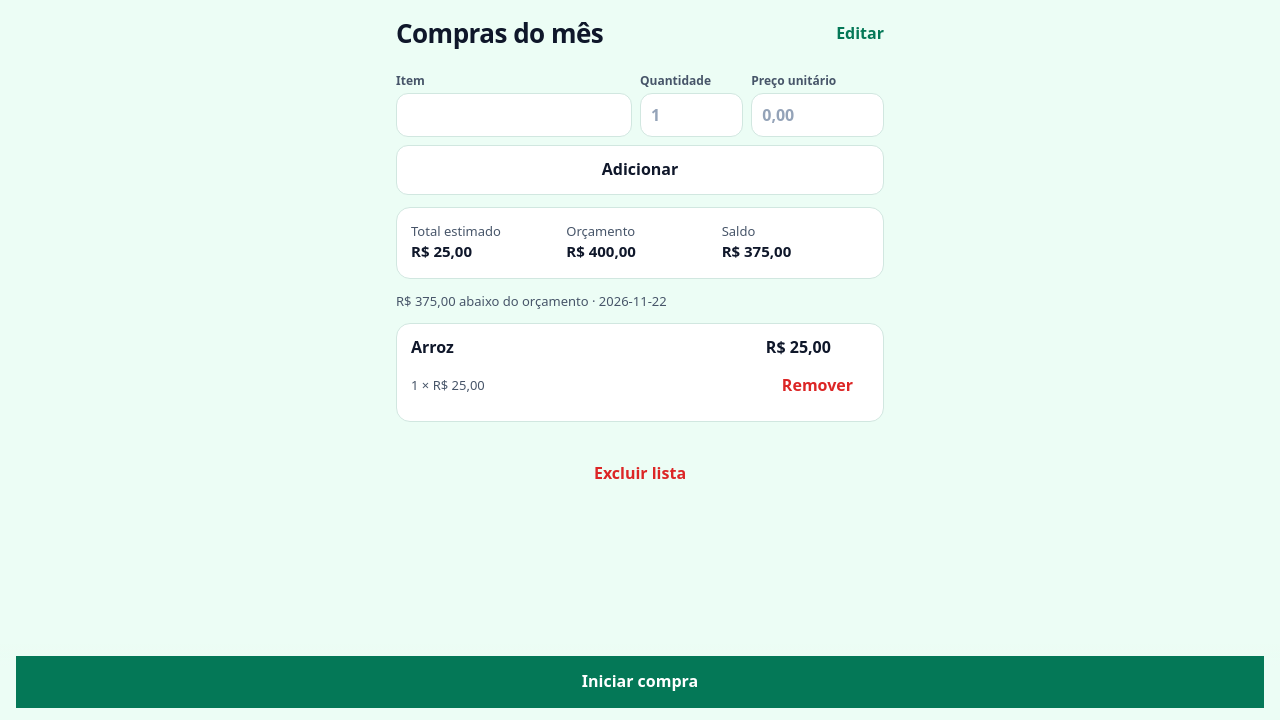
Test: CA-R13: desfazer remoção de item › mostra o desfazer depois de remover e devolve o item ao clicar
Click the button with aria-label "remover arroz".
click(817, 385)  # box [766, 362, 869, 409]
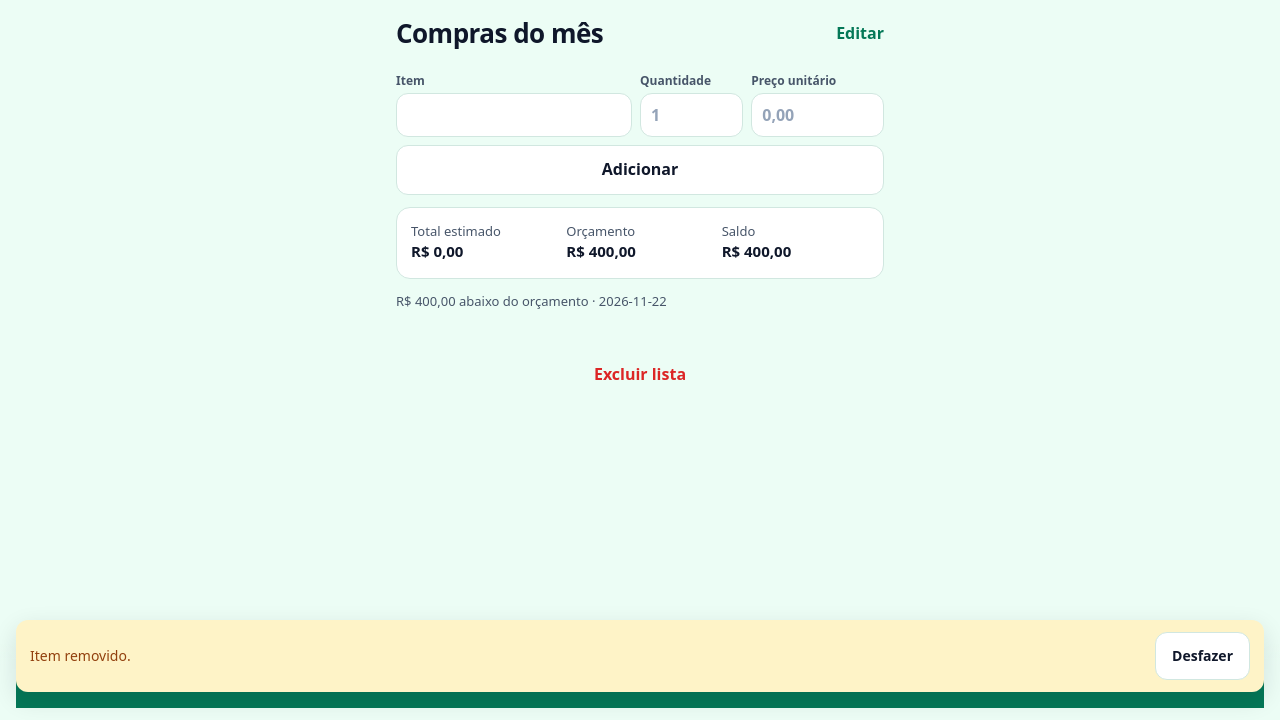
Expected: the text "Item removido. Desfazer" is shown, [16, 620, 1264, 692]
Click the button "Desfazer".
click(1203, 656)  # box [1155, 632, 1250, 680]
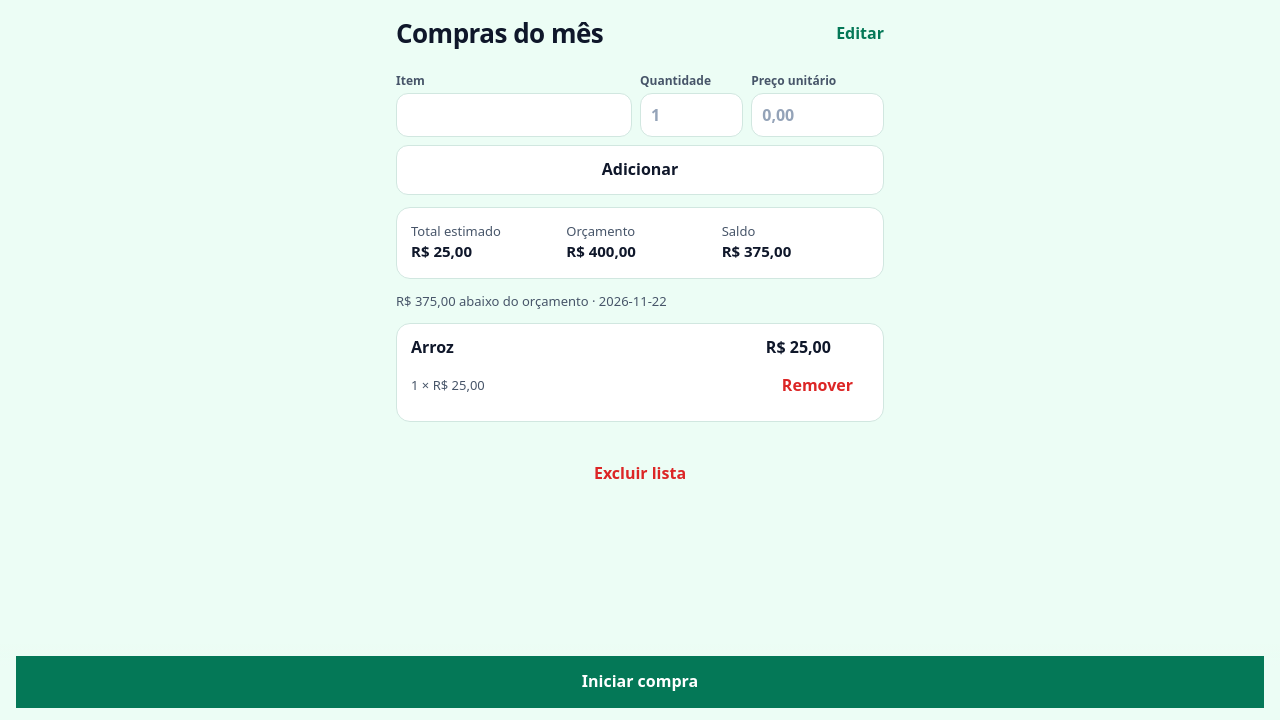
Expected: the text "Arroz" is shown, [411, 336, 454, 358]
